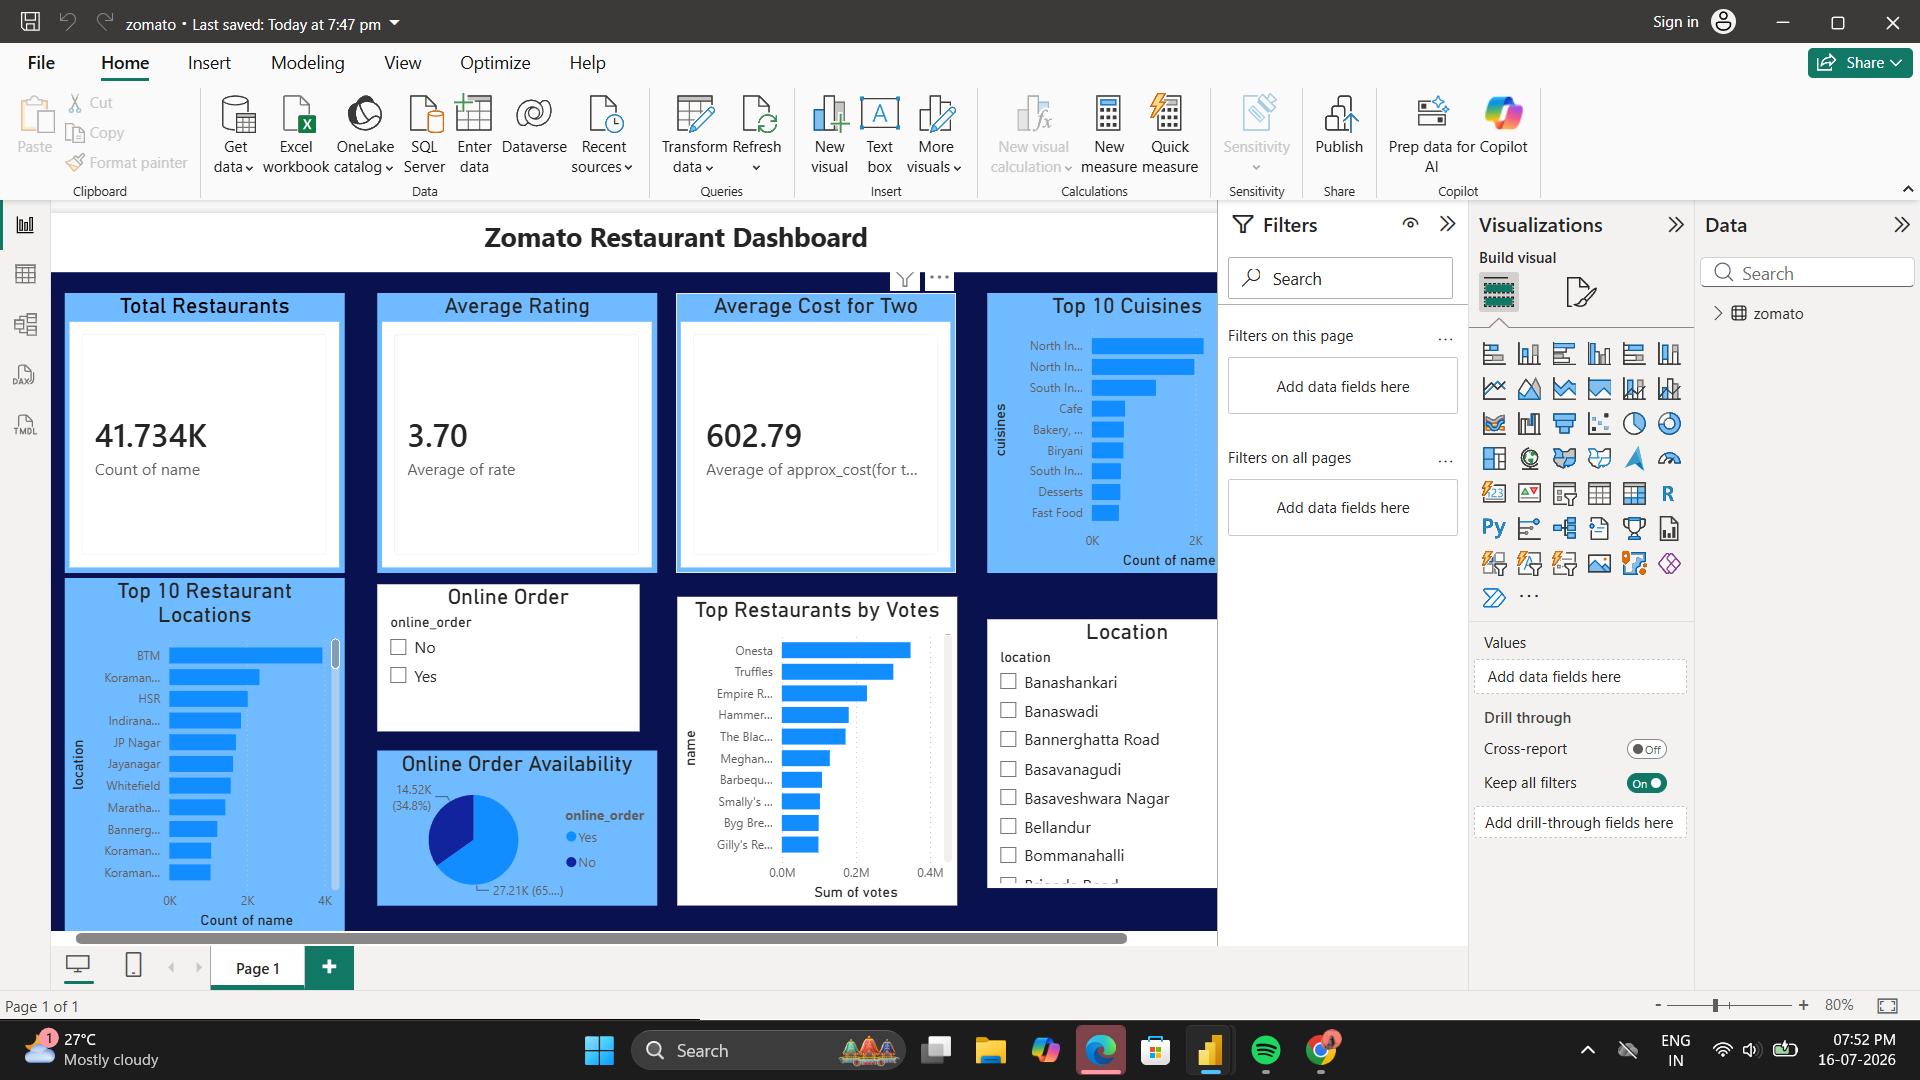

What the dashboard file says about the page in this screenshot:
{"tool":"powerbi","page":{"name":"Page 1","canvas":[1280,720],"ordinal":0},"visuals":[{"type":"cardVisual","title":"Total Restaurants","fields":{"Data":["CountNonNull(zomato.name)"]},"box":[28.8,79.6,279.9,279.9],"z":0},{"type":"cardVisual","title":"Average Rating","fields":{"Data":["Avg(zomato.rate)"]},"box":[341.7,79.6,279.9,279.9],"z":1000},{"type":"cardVisual","title":"Average Cost for Two","fields":{"Data":["Avg(zomato.approx_cost(for two people))"]},"box":[639.5,79.6,279.9,279.9],"z":2000},{"type":"clusteredBarChart","title":"Top 10 Restaurant Locations","fields":{"Category":["zomato.location"],"Y":["CountNonNull(zomato.name)"]},"box":[28.8,365,279.9,355.4],"z":3000},{"type":"pieChart","title":"Online Order Availability","fields":{"Category":["zomato.online_order"],"Y":["CountNonNull(zomato.name)"]},"box":[341.7,537.9,279.9,155.1],"z":4000},{"type":"clusteredBarChart","title":"Top 10 Cuisines","fields":{"Category":["zomato.cuisines"],"Y":["CountNonNull(zomato.name)"]},"box":[950.9,79.6,279.9,279.9],"z":5000},{"type":"clusteredBarChart","title":"Top Restaurants by Votes","fields":{"Category":["zomato.name"],"Y":["Sum(zomato.votes)"]},"box":[640.8,384.2,279.9,308.7],"z":6000},{"type":"slicer","title":"Location","fields":{"Values":["zomato.location"]},"box":[950.9,406.2,279.9,269],"z":7000},{"type":"slicer","title":"Online Order","fields":{"Values":["zomato.online_order"]},"box":[341.7,371.9,262.1,146.8],"z":8000},{"type":"textbox","box":[0,0,1280.3,59],"z":8001}]}

Visuals, with their boxes on the page's 1280x720 design canvas (x1, y1, x2, y2). These are canvas units, not pixel positions in the 1920x1080 screenshot, which may show the page scaled, cropped or inside an application window:
"Total Restaurants" cardVisual: select_region(29, 80, 309, 360)
"Average Rating" cardVisual: select_region(342, 80, 622, 360)
"Average Cost for Two" cardVisual: select_region(640, 80, 919, 360)
"Top 10 Restaurant Locations" clusteredBarChart: select_region(29, 365, 309, 720)
"Online Order Availability" pieChart: select_region(342, 538, 622, 693)
"Top 10 Cuisines" clusteredBarChart: select_region(951, 80, 1231, 360)
"Top Restaurants by Votes" clusteredBarChart: select_region(641, 384, 921, 693)
"Location" slicer: select_region(951, 406, 1231, 675)
"Online Order" slicer: select_region(342, 372, 604, 519)
textbox: select_region(0, 0, 1280, 59)
